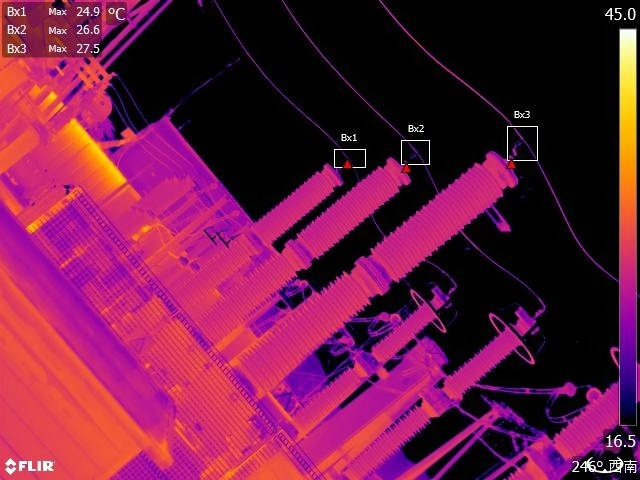lightning arrester: (332, 305, 553, 480), (291, 279, 460, 428), (505, 340, 640, 480)
potential transformer: (229, 144, 530, 393), (197, 147, 423, 340), (178, 155, 356, 305)
